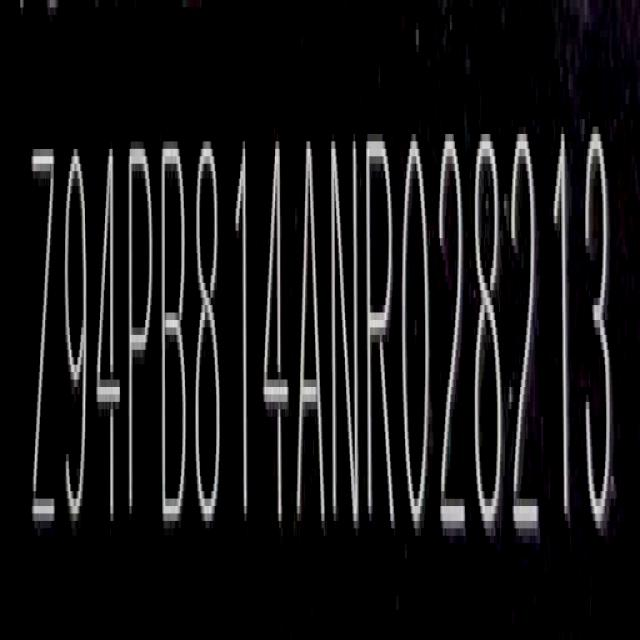0: (398, 135, 432, 538)
1: (550, 118, 576, 532), (232, 135, 252, 540)
2: (436, 124, 469, 546), (509, 130, 543, 538)
3: (581, 124, 614, 543)
4: (259, 132, 291, 532), (95, 140, 122, 534)
8: (192, 124, 222, 535), (474, 130, 504, 534)
9: (62, 152, 90, 538)
A: (296, 135, 330, 524)
B: (158, 130, 189, 548)
N: (327, 129, 362, 532)
P: (124, 132, 156, 529)
R: (362, 116, 397, 526)
Z: (28, 141, 59, 540)
